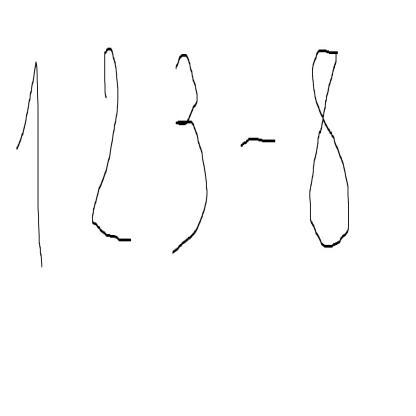-: (240, 100, 281, 160)
